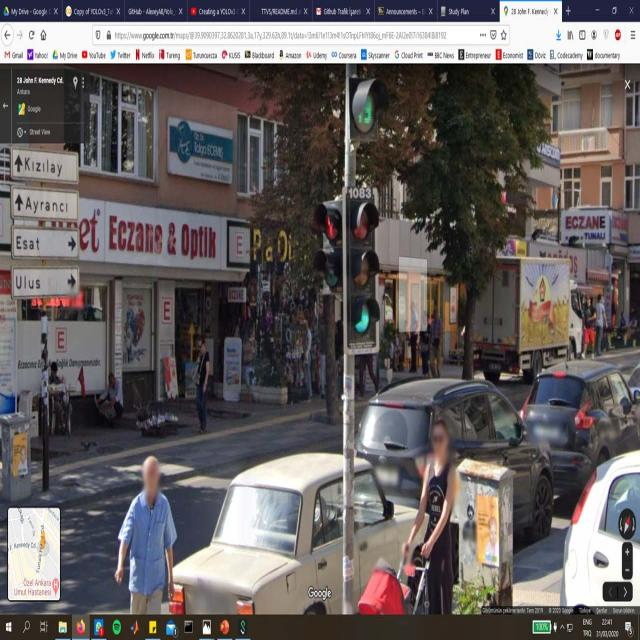yesil: (351, 203, 376, 349)
